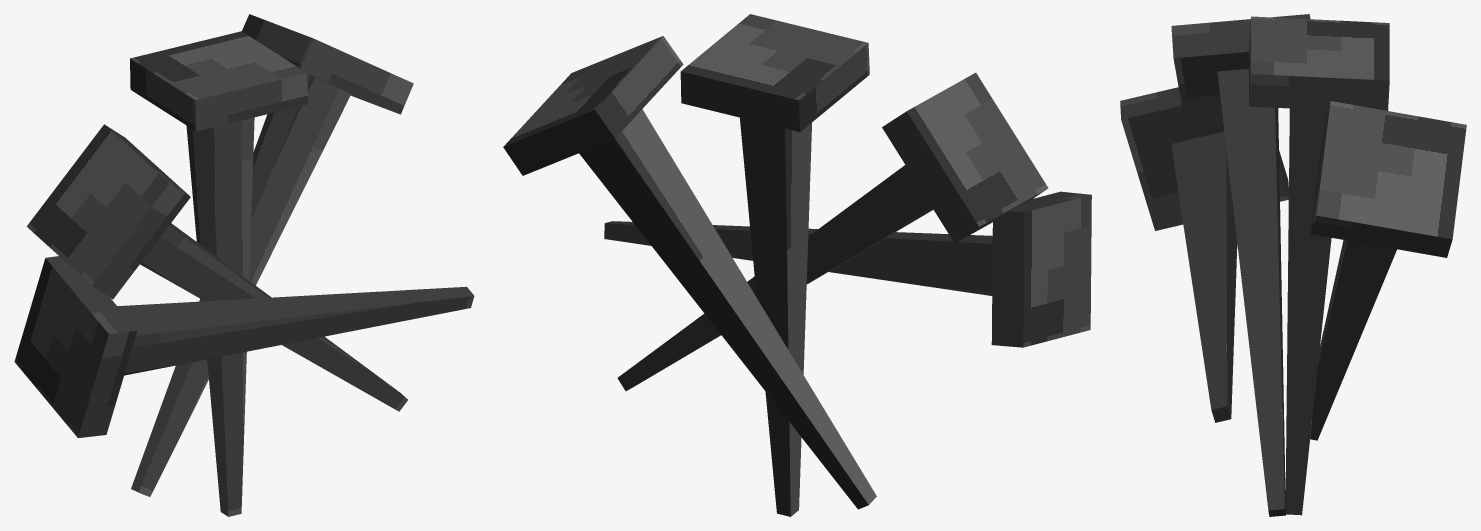
The model's file is Nails.obj.
3 views of the same model, side by side, from view 1: azimuth 30°, elevation 25°; view 2: azimuth 150°, elevation 25°; view 3: azimuth 270°, elevation 25° (orthographic). The views are drawn at different scales.
Parts seen in each view (by area): view 1: Nails; view 2: Nails; view 3: Nails.
Boxes of the visible parts, x1,y1,x2,y2 form: Nails: (14, 14, 474, 516); Nails: (503, 14, 1091, 516); Nails: (1120, 14, 1466, 516).
Bounding box in the file's own units: 0.9505 × 0.9464 × 0.6374.
